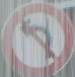Don't turn left: (8, 6, 65, 65)
